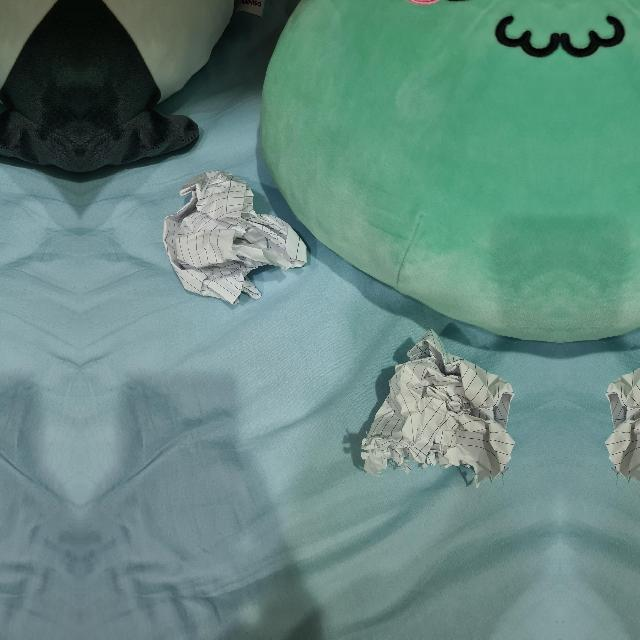paper: (352, 337, 510, 483), (158, 173, 306, 305), (610, 337, 640, 483), (0, 173, 1, 305)
